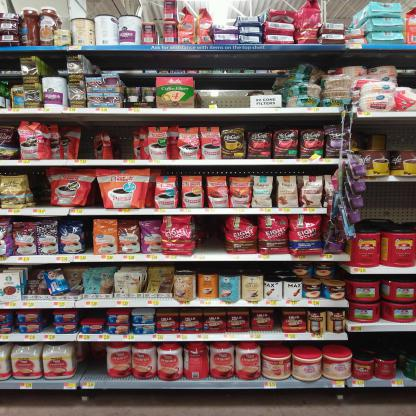Void: (195, 58, 266, 88), (370, 184, 415, 223), (383, 118, 414, 152), (199, 217, 226, 251), (352, 335, 414, 349), (154, 56, 195, 76), (124, 57, 150, 88), (119, 124, 137, 162), (86, 344, 106, 374), (82, 126, 97, 160), (32, 173, 46, 204)
